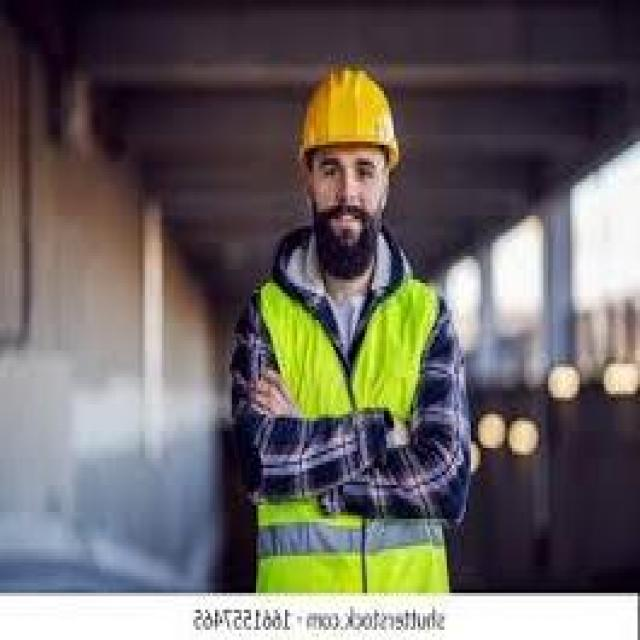Reflective-Jacket: (232, 252, 456, 590)
Safety-Helmet: (290, 57, 406, 179)
